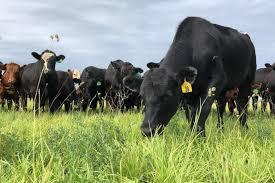cow: (121, 16, 257, 141), (15, 50, 65, 114), (73, 66, 108, 115), (1, 62, 25, 111)
